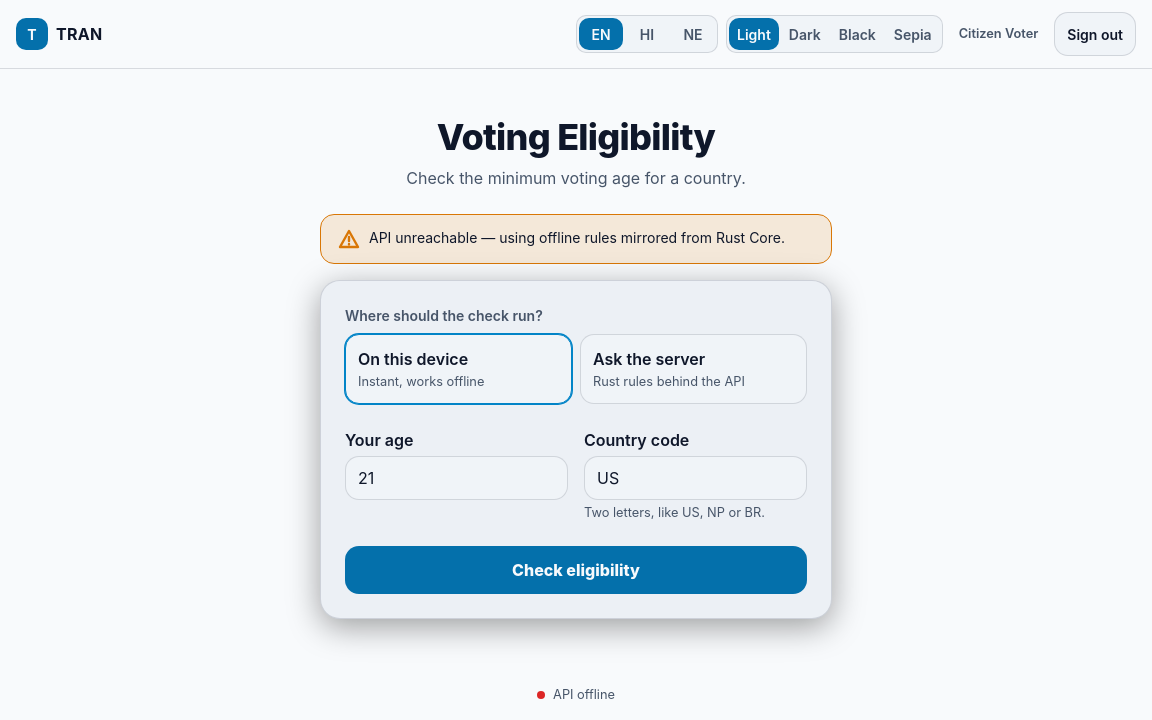
Test: App: server down › shows the banner and the offline status, and the device check still works
Expected: the text "API offline" is shown, [537, 686, 615, 704]
Expected: the text "API unreachable" is shown, [369, 229, 785, 246]
Replace the text in the field labelled "Your age" with "30" at (456, 478), box [345, 456, 568, 500]
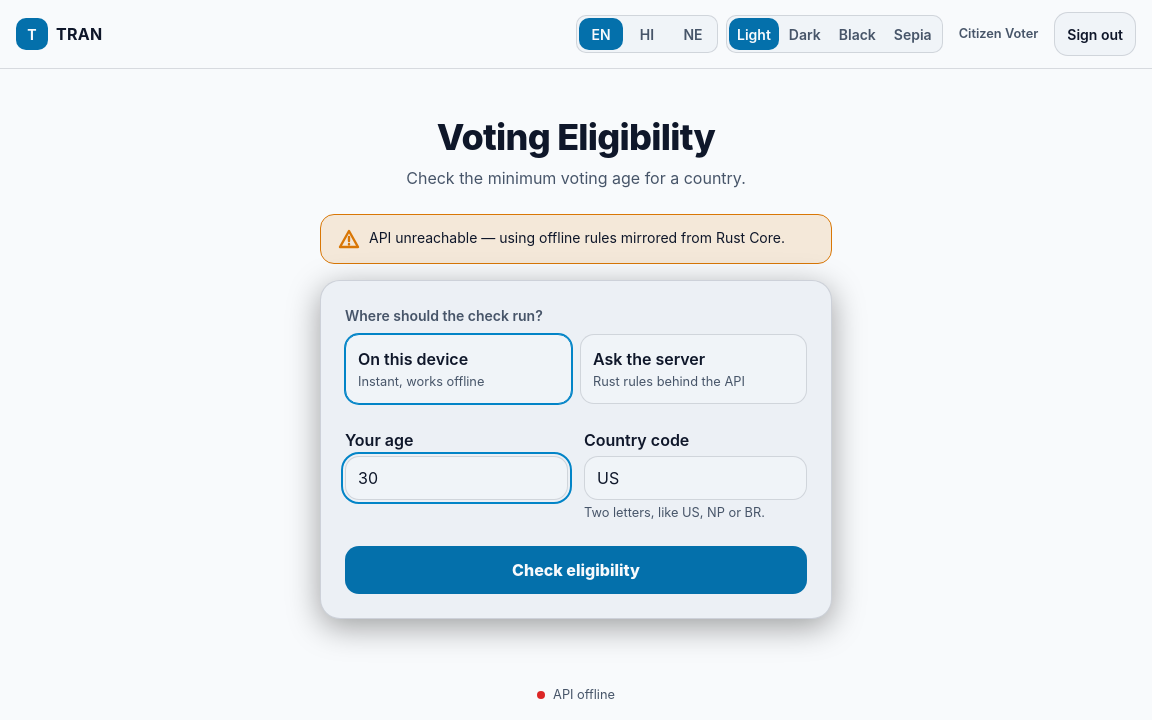
Click the button "Check eligibility" at (576, 570), box [345, 546, 807, 594]
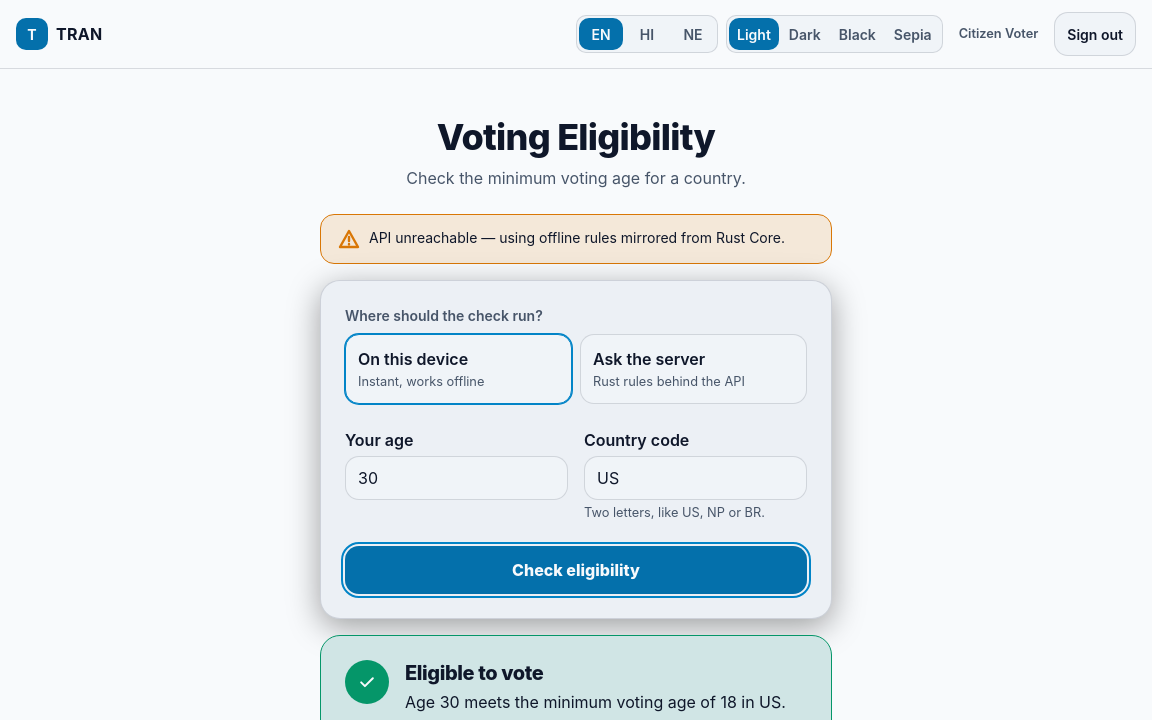
Expected: the heading "Eligible to vote" is shown, [405, 661, 543, 685]
